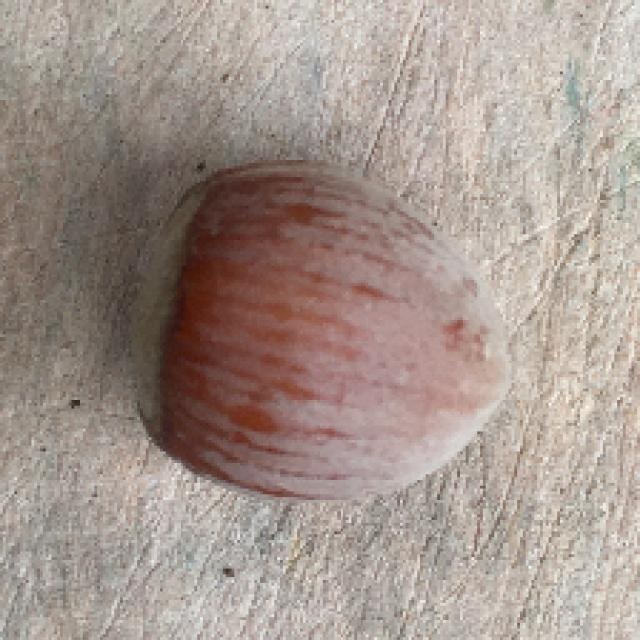qualityHazelnut: (124, 159, 515, 509)
